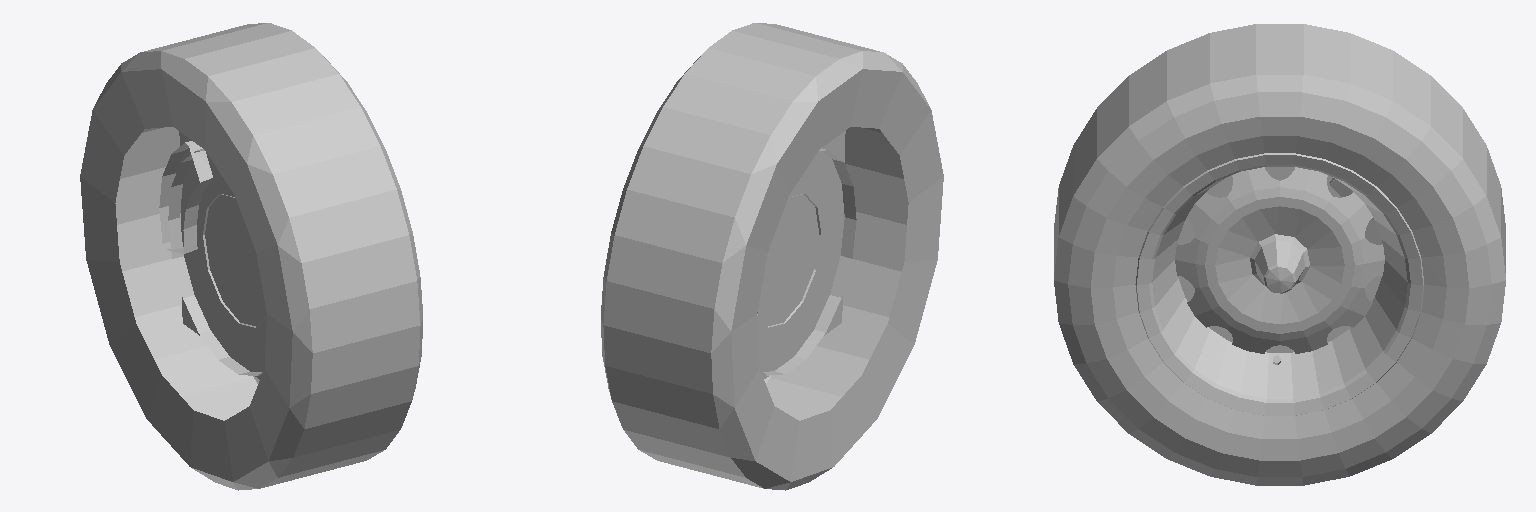
File: TireADX-mtl.obj
3 renders of one model, left to right at view 1: azimuth 30°, elevation 25°; view 2: azimuth 150°, elevation 25°; view 3: azimuth 270°, elevation 25°, orthographic.
Visible parts, largest first — view 1: CHALLENGER71.005_CHALLENGER71.008; view 2: CHALLENGER71.005_CHALLENGER71.008; view 3: CHALLENGER71.005_CHALLENGER71.008.
Part boxes in pixels (x1,y1,x2,y2): CHALLENGER71.005_CHALLENGER71.008: (80,23,422,490); CHALLENGER71.005_CHALLENGER71.008: (601,23,943,490); CHALLENGER71.005_CHALLENGER71.008: (1054,24,1505,485).
Size of the model in its own units: 0.2377 by 0.6429 by 0.6434.